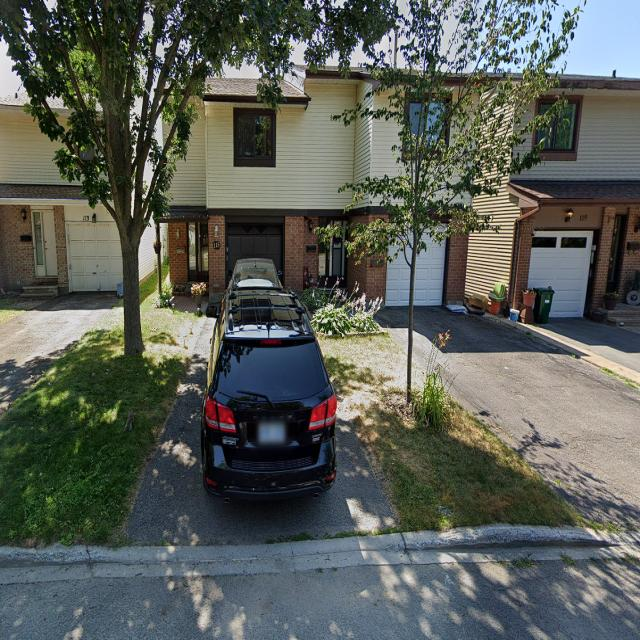Door: (319, 214, 348, 287)
curb: (0, 525, 637, 580)
obstacle: (201, 259, 337, 509), (108, 151, 167, 364)
walkways: (124, 288, 402, 547), (373, 304, 639, 525)
